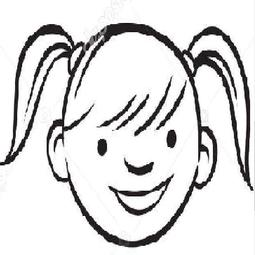ear: (41, 117, 73, 189), (193, 121, 224, 191)
nose: (118, 151, 162, 180)
open_mouth: (106, 178, 173, 219)
small_eye: (86, 133, 110, 162), (164, 128, 180, 151)
